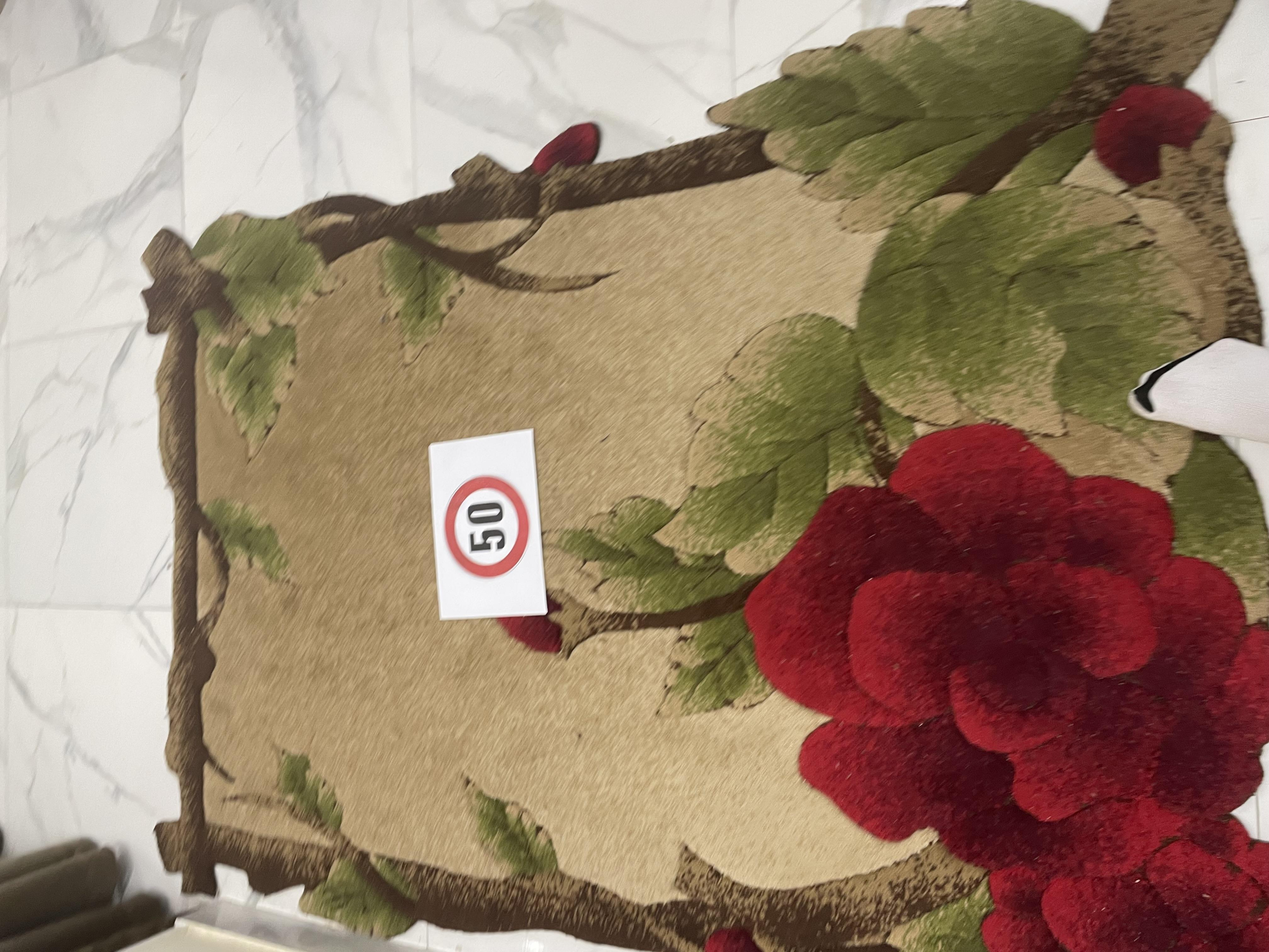50-Speed: (494, 329, 638, 398)
